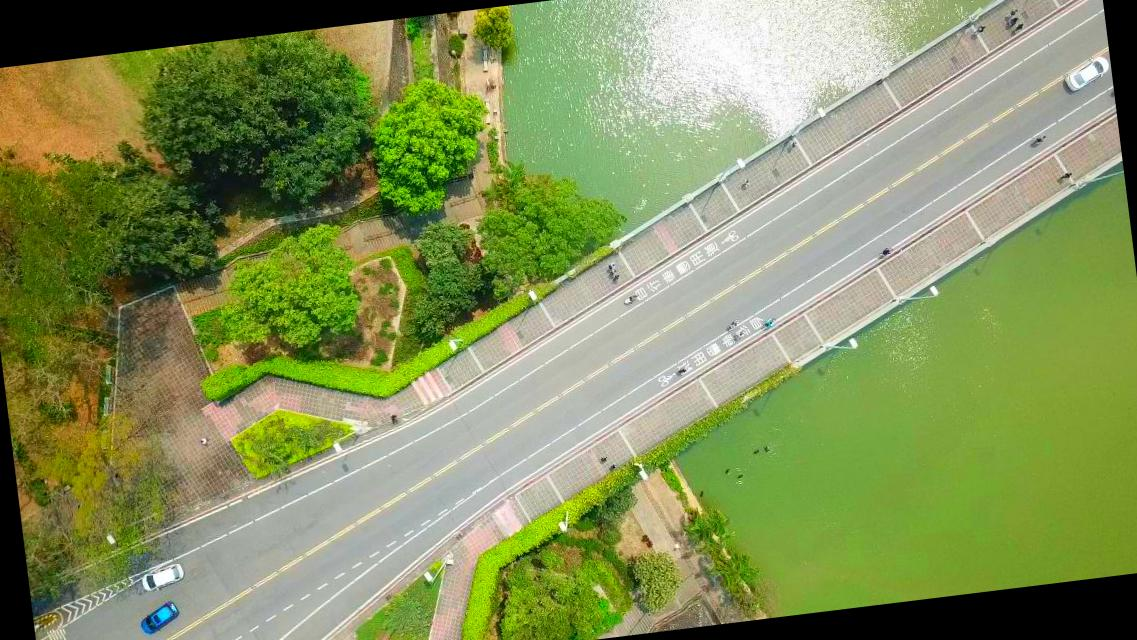vehicle: (1062, 54, 1113, 94), (136, 600, 182, 636), (140, 561, 186, 593)
